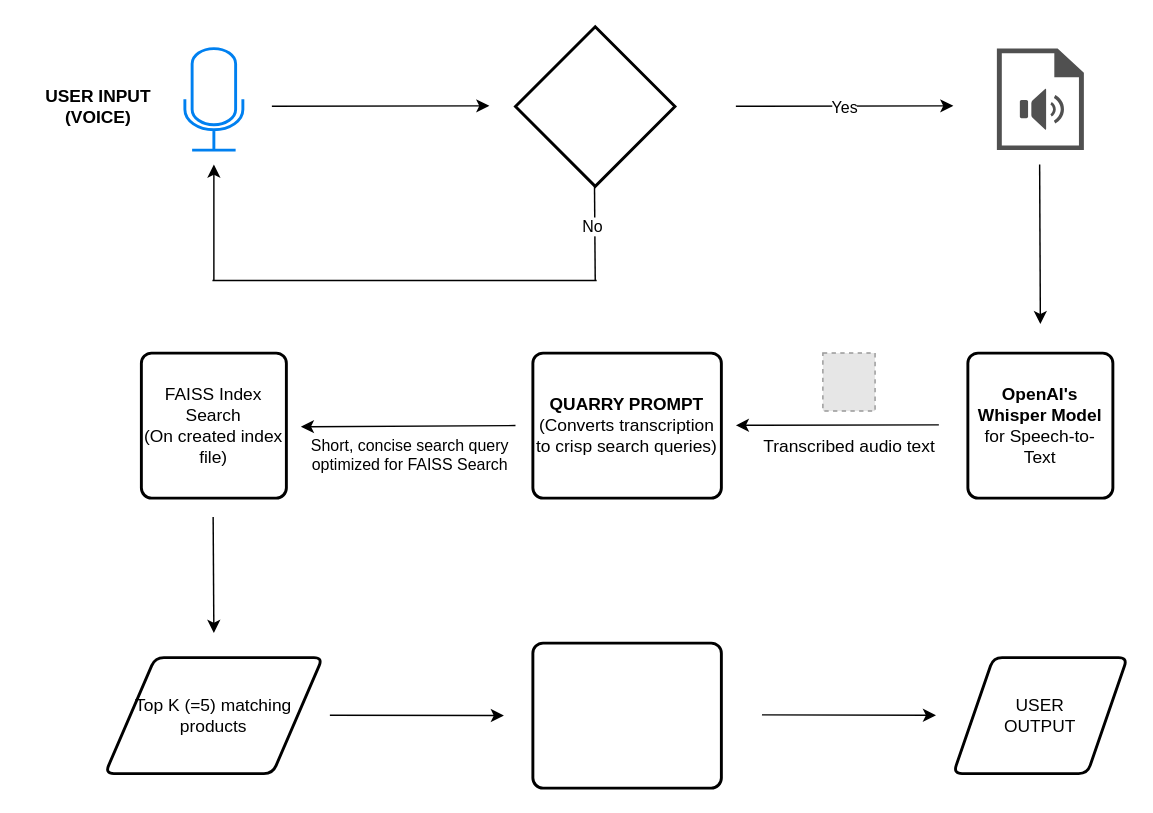
This 1153x813 diagram has some shape labels left out. Grey dashed boxes stand in for pictures. The centre of each missing label's shape, as x and y in pixels:
RE-SEARCHER PROMPT (Prettifies the output): [626,715]
Silence>4 secs?: [594,106]
